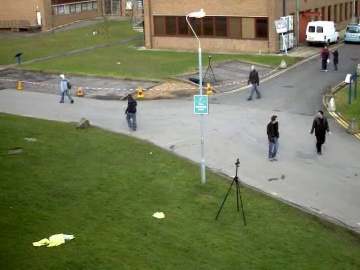person: (309, 111, 329, 155), (309, 110, 328, 155), (59, 76, 72, 105)
